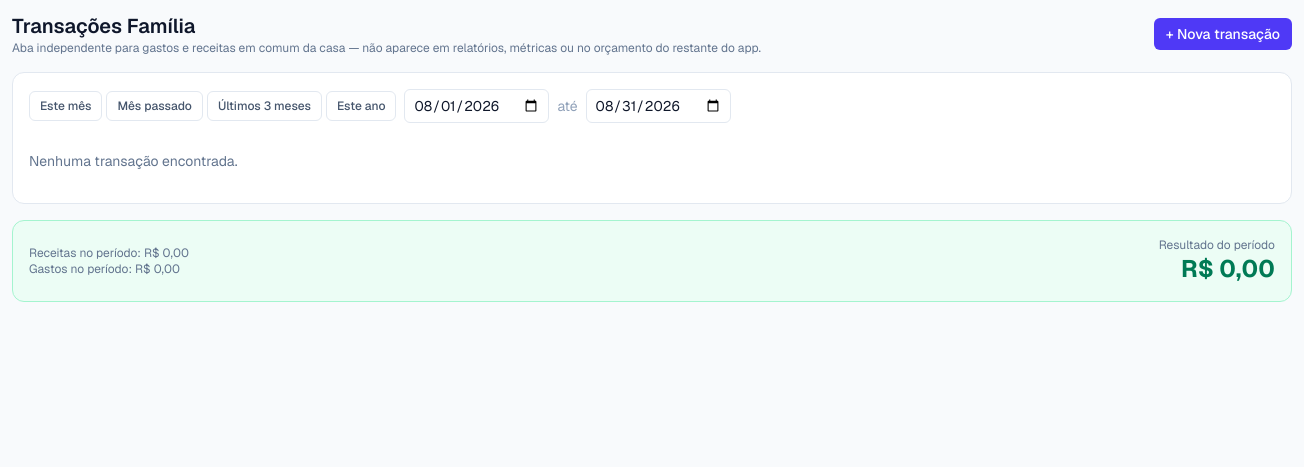
página /transacoes-familia — formulário › já vem com a data de hoje
Expected: the text "Nenhuma transação encontrada." is shown, x1=29 y1=152 x2=238 y2=170
Click the button "+ Nova transação" at (1223, 34), box x1=1154 y1=18 x2=1292 y2=50
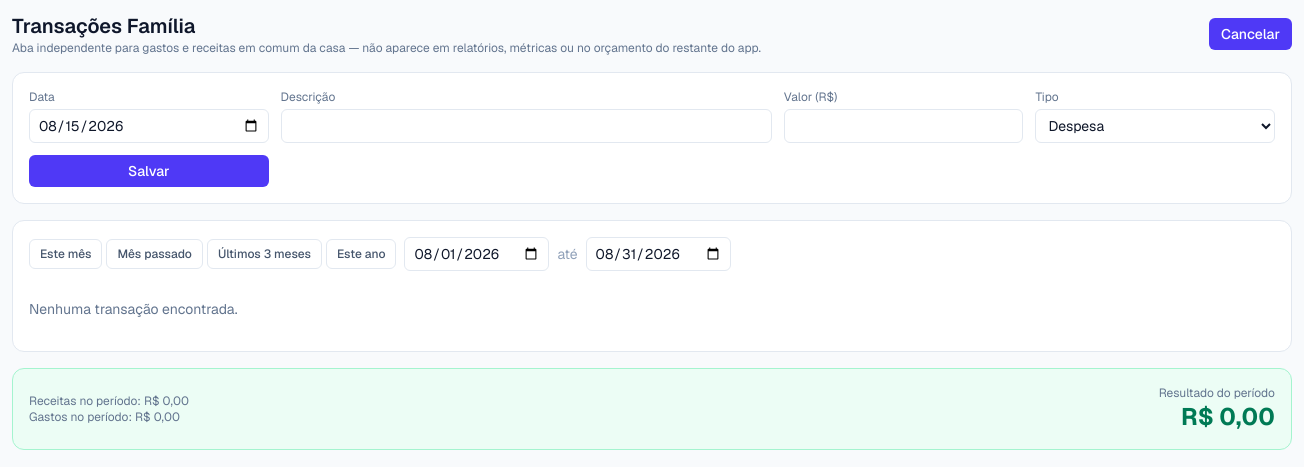
Now the date field below "Data" holds "2026-08-15", box x1=29 y1=109 x2=269 y2=143
